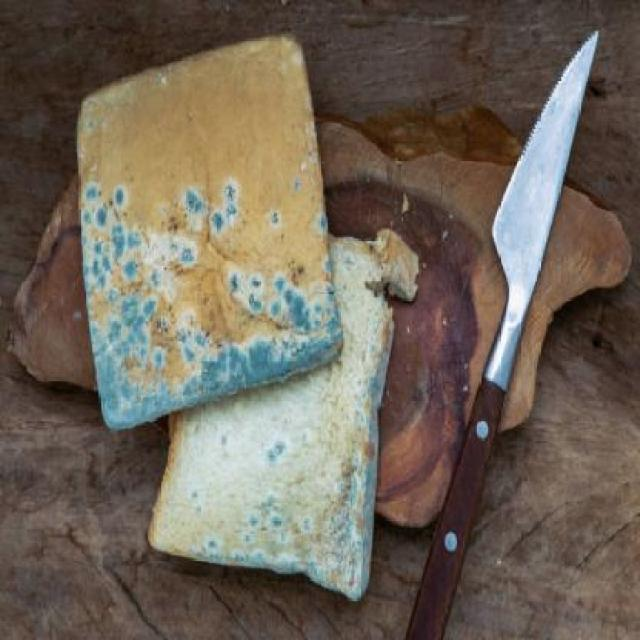mold_bread: (65, 173, 345, 427), (334, 462, 381, 601), (191, 543, 314, 576), (356, 351, 394, 434), (238, 490, 289, 538), (259, 435, 291, 463), (185, 481, 204, 510)
